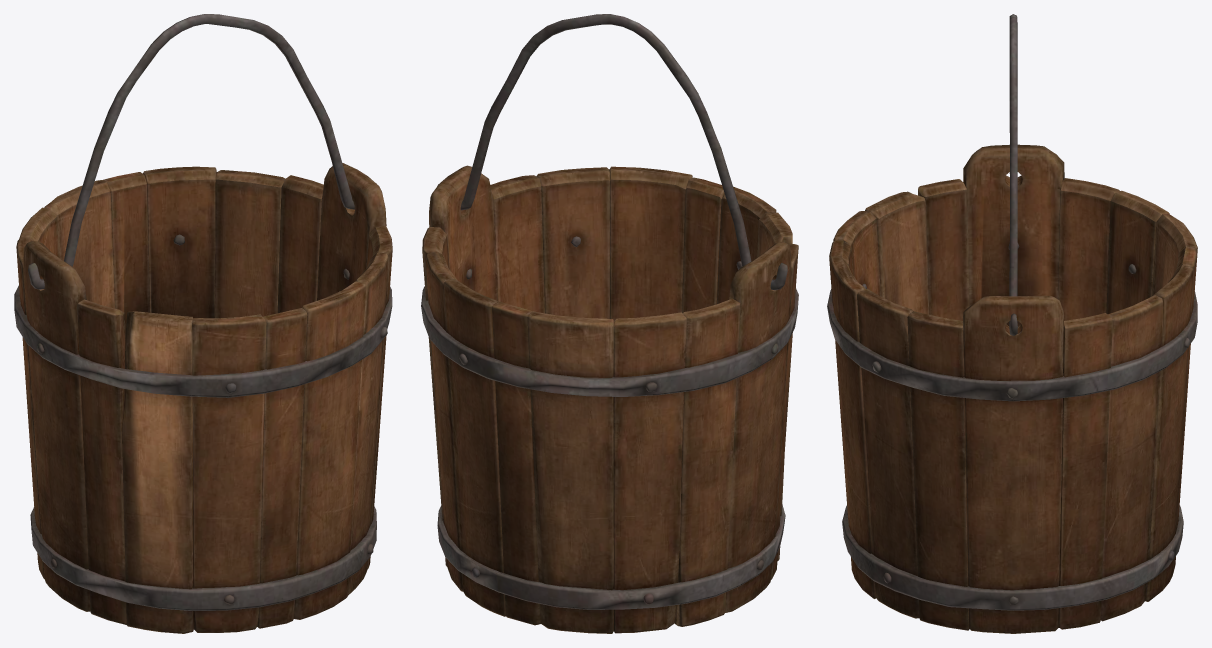
Rendered from bucket.glb.
The picture shows the model from 3 angles, left to right: view 1: azimuth 30°, elevation 25°; view 2: azimuth 150°, elevation 25°; view 3: azimuth 270°, elevation 25°; orthographic projection.
Parts seen in each view (by area): view 1: wooden_bucket_01, wooden_bucket_01_handle; view 2: wooden_bucket_01, wooden_bucket_01_handle; view 3: wooden_bucket_01, wooden_bucket_01_handle.
Boxes of the visible parts, <box> form: wooden_bucket_01: <box>14,163,392,633</box>; wooden_bucket_01_handle: <box>28,14,376,289</box>; wooden_bucket_01: <box>421,165,798,633</box>; wooden_bucket_01_handle: <box>437,14,787,290</box>; wooden_bucket_01: <box>827,144,1197,633</box>; wooden_bucket_01_handle: <box>1009,14,1017,335</box>.
Bounding box in the file's own units: 0.367 × 0.5499 × 0.3419.
1 material, 1 textured.
